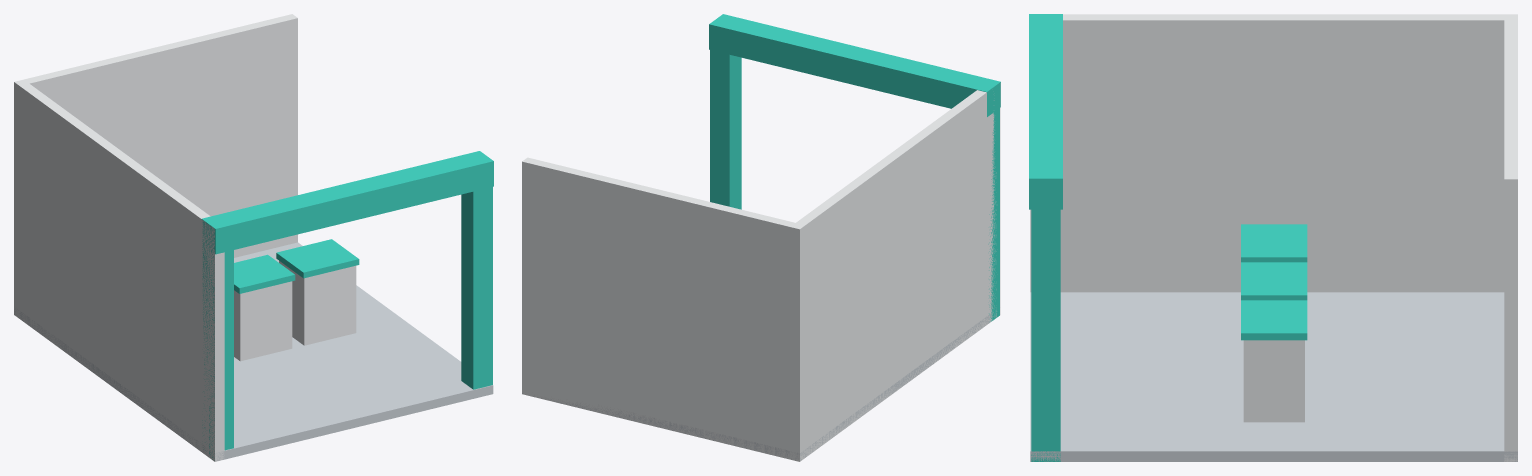
3 views of the same model, side by side, from view 1: azimuth 30°, elevation 25°; view 2: azimuth 150°, elevation 25°; view 3: azimuth 270°, elevation 25° (orthographic). The views are drawn at different scales.
Visible parts, largest first — view 1: Exhibition Booth Concept; view 2: Exhibition Booth Concept; view 3: Exhibition Booth Concept.
Part boxes in pixels (left/top/right/bottom): Exhibition Booth Concept: left=14, top=14, right=493, bottom=461; Exhibition Booth Concept: left=522, top=14, right=1000, bottom=461; Exhibition Booth Concept: left=1029, top=14, right=1517, bottom=461.
Size of the model in its own units: 4 by 3.2 by 5.02.
